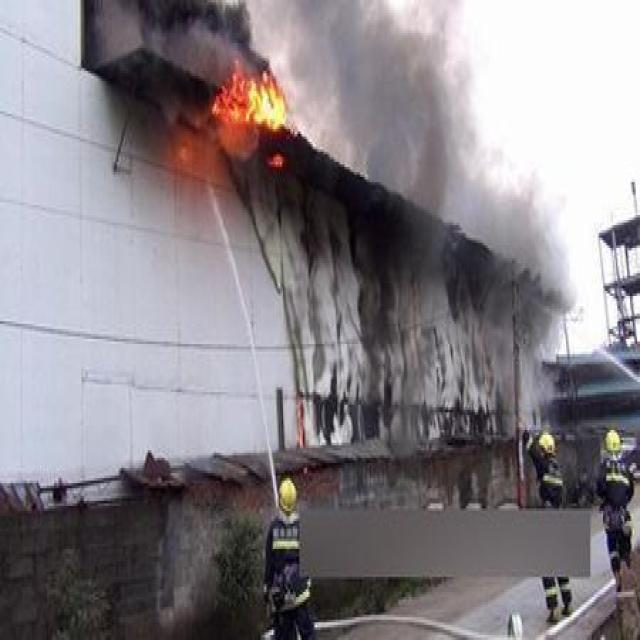Fire: (216, 62, 288, 138)
Smoke: (257, 3, 452, 284), (454, 152, 574, 342)
